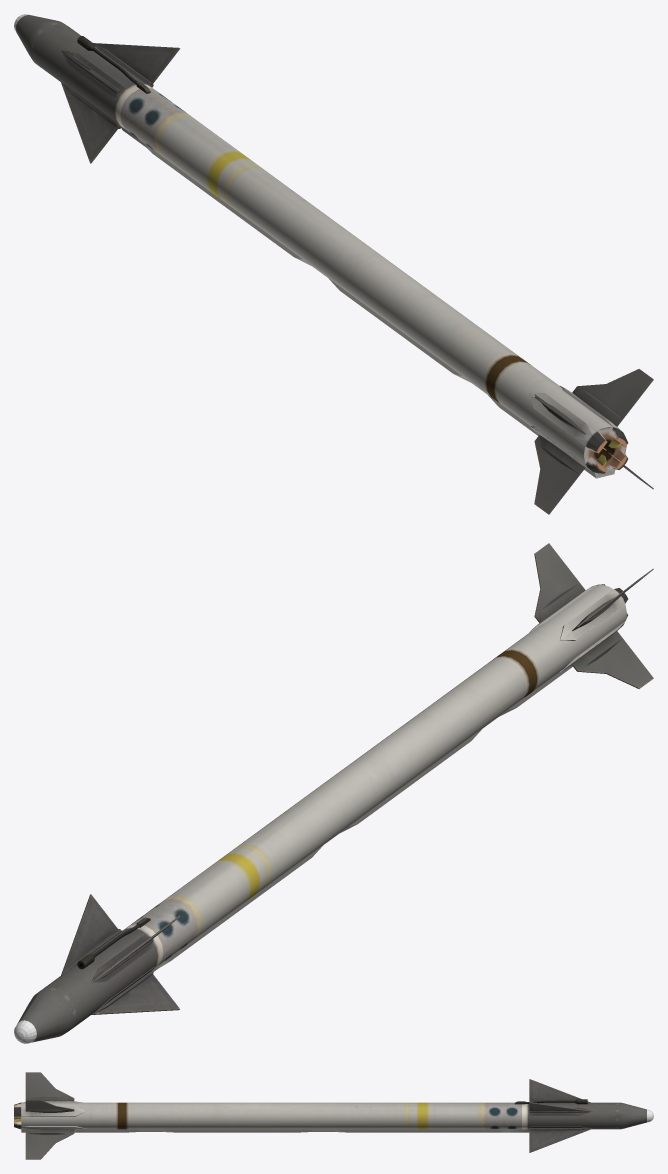
Rendered from aam_aim9x.glb.
3 renders of one model, top to bottom at view 1: azimuth 30°, elevation 25°; view 2: azimuth 150°, elevation 25°; view 3: azimuth 270°, elevation 25°, orthographic. The views are drawn at different scales.
Parts seen in each view (by area): view 1: body|w_qaam_a0-Mat; view 2: body|w_qaam_a0-Mat; view 3: body|w_qaam_a0-Mat.
Boxes of the visible parts, x1,y1,x2,y2 form: body|w_qaam_a0-Mat: [16, 15, 653, 514]; body|w_qaam_a0-Mat: [17, 543, 653, 1042]; body|w_qaam_a0-Mat: [14, 1072, 646, 1159].
Size of the model in its own units: 0.3099 by 0.3099 by 3.01.
2 materials, 1 textured.
